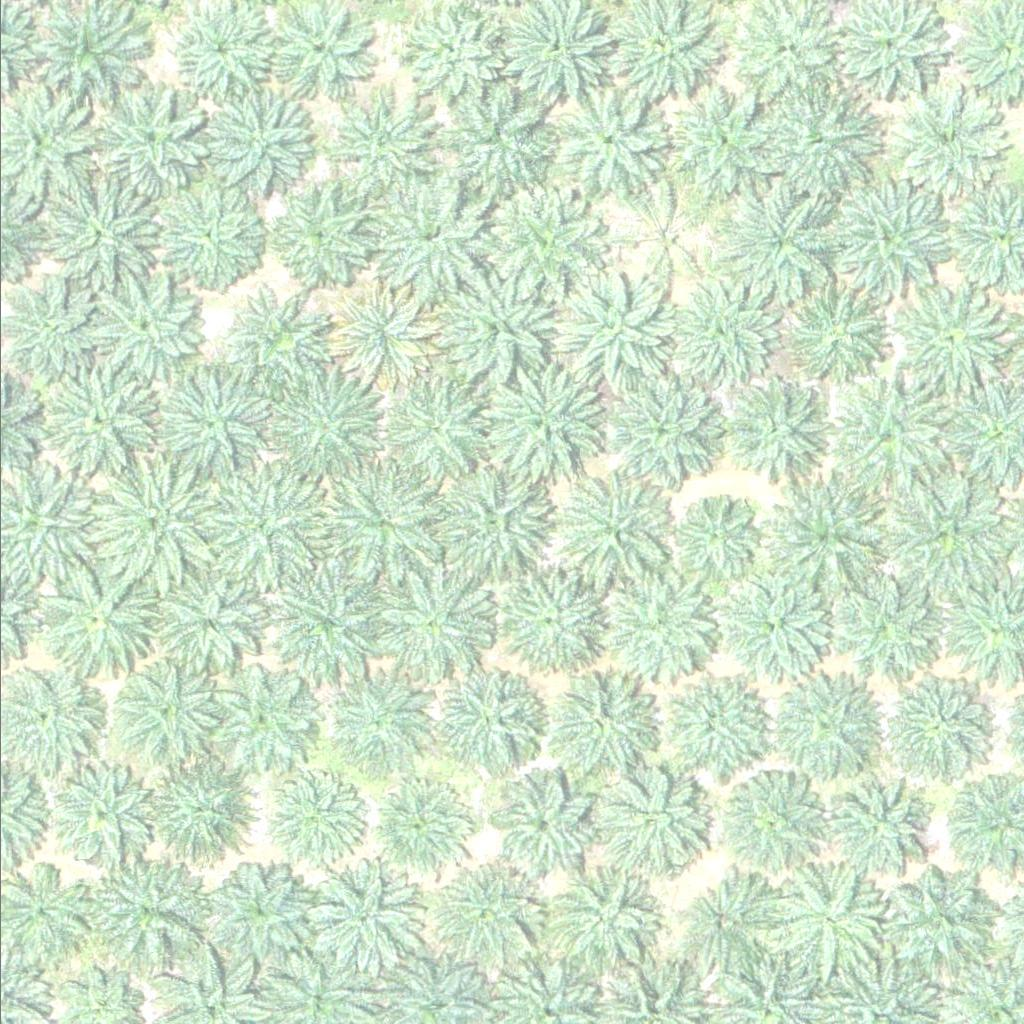Kelapa_Sawit: (814, 561, 940, 686), (757, 475, 883, 600), (316, 459, 442, 584), (197, 465, 323, 590), (95, 459, 220, 584), (491, 570, 605, 683), (557, 476, 671, 589), (376, 562, 490, 675), (894, 280, 1008, 393), (604, 375, 718, 488), (38, 567, 151, 680), (41, 178, 154, 291), (538, 864, 651, 977), (709, 767, 822, 880), (587, 762, 700, 875), (879, 669, 992, 782), (766, 670, 879, 783), (307, 859, 420, 972), (111, 653, 224, 766), (152, 567, 265, 680), (271, 569, 384, 682), (433, 462, 546, 575), (488, 363, 601, 476), (440, 80, 553, 193), (548, 88, 661, 201), (665, 84, 778, 197), (763, 78, 876, 191), (487, 184, 600, 297), (835, 378, 948, 491), (322, 278, 435, 391), (89, 275, 202, 388), (369, 180, 482, 293), (264, 176, 377, 289), (96, 848, 210, 960), (145, 753, 259, 865), (209, 659, 323, 771), (893, 84, 1007, 196), (833, 184, 947, 296), (656, 279, 770, 391), (879, 867, 992, 979), (648, 668, 761, 780), (540, 665, 653, 777), (712, 569, 825, 681), (601, 568, 714, 680), (890, 477, 1003, 589), (378, 375, 491, 487), (269, 365, 382, 477), (158, 365, 271, 477), (46, 364, 159, 476), (722, 186, 835, 298), (438, 271, 551, 383), (560, 272, 673, 384), (324, 88, 437, 200), (92, 84, 205, 196), (612, 187, 713, 287), (774, 870, 875, 970), (680, 876, 781, 976), (433, 864, 534, 964), (827, 781, 928, 881), (493, 772, 594, 872), (394, 4, 495, 104), (156, 186, 257, 286), (211, 93, 312, 193), (262, 1, 363, 101), (52, 765, 152, 865), (440, 667, 540, 767), (212, 867, 312, 967), (368, 772, 468, 872), (261, 768, 361, 868), (329, 673, 429, 773), (786, 282, 886, 382), (728, 381, 828, 481), (170, 2, 270, 102), (231, 296, 320, 383), (676, 495, 752, 570)
